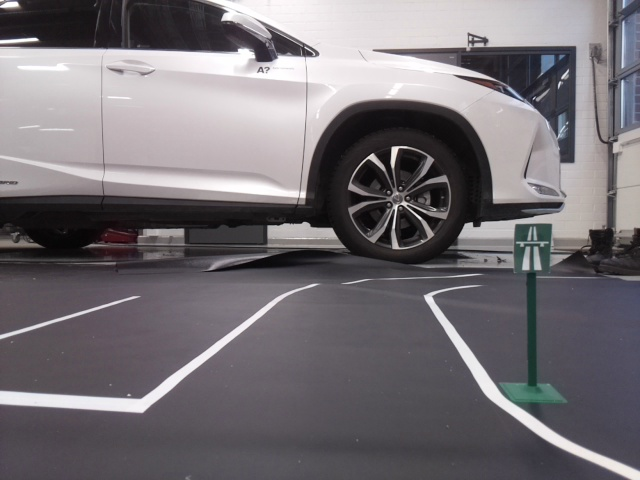HighwayEntrance: (513, 222, 550, 271)
